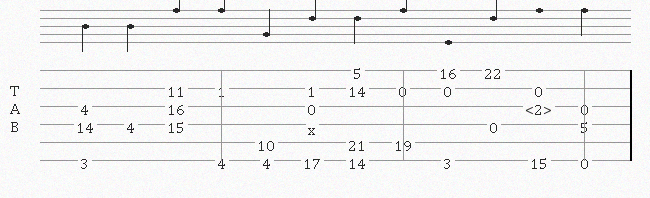0: (307, 99, 320, 113), (398, 81, 411, 95), (443, 81, 456, 95), (489, 117, 502, 131), (534, 81, 547, 95), (580, 99, 593, 113), (580, 153, 593, 167)
1: (217, 81, 230, 95), (307, 81, 320, 95)
10: (257, 135, 279, 149)
11: (167, 81, 189, 95)
14: (76, 117, 98, 131), (348, 153, 370, 167), (348, 81, 370, 95)
15: (167, 117, 189, 132), (530, 153, 552, 168)
16: (167, 99, 189, 113), (439, 63, 461, 77)
17: (303, 153, 325, 167)
19: (394, 135, 416, 149)
21: (348, 135, 370, 149)
22: (484, 63, 506, 77)
3: (80, 153, 93, 167), (443, 153, 456, 167)
4: (80, 99, 93, 113), (126, 117, 139, 131), (217, 153, 230, 167), (262, 153, 275, 167)
5: (353, 63, 366, 78), (580, 117, 593, 132)
harmonic: (525, 99, 556, 113)
x: (308, 119, 320, 130)
